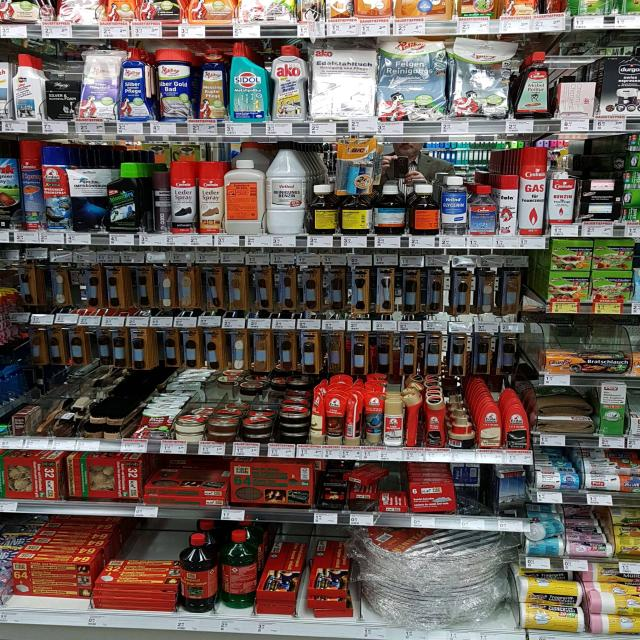unorganised: (12, 562, 91, 607), (221, 539, 256, 615), (26, 328, 87, 369), (306, 577, 356, 621), (158, 328, 203, 370), (498, 469, 529, 519), (151, 173, 172, 234), (403, 396, 423, 446), (46, 268, 69, 311), (70, 269, 91, 310), (324, 270, 345, 311), (498, 335, 520, 374), (344, 395, 361, 445), (134, 267, 154, 309), (344, 466, 386, 485), (91, 331, 112, 368), (450, 420, 476, 448), (476, 336, 493, 377), (312, 396, 324, 444), (376, 336, 391, 374)
